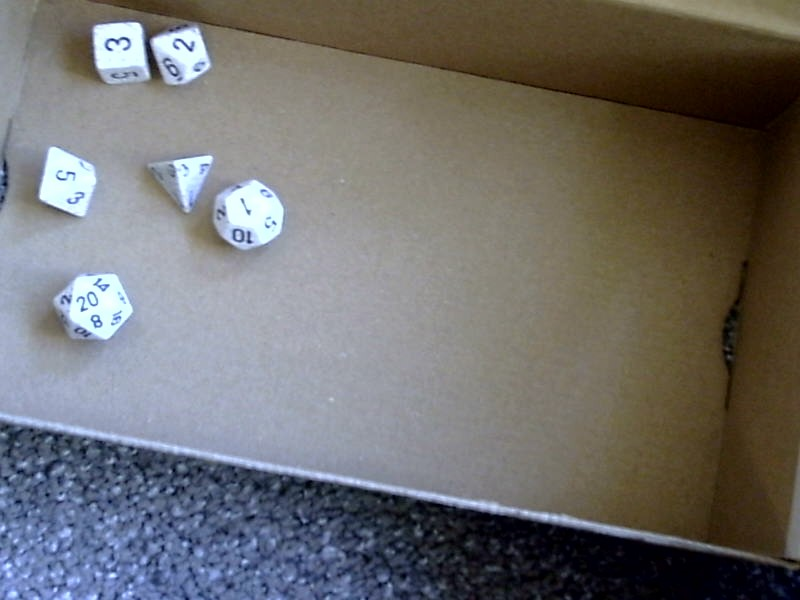d10 2: (149, 18, 213, 86)
d12 1: (212, 177, 283, 260)
d20 20: (45, 267, 140, 347)
d4 3: (139, 152, 213, 216)
d6 3: (84, 18, 151, 88)
d8 5: (34, 144, 97, 219)
